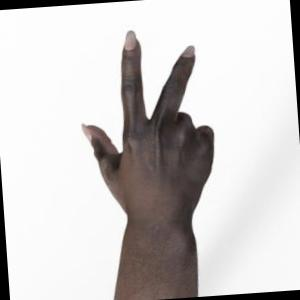scissors: (83, 31, 214, 300)
